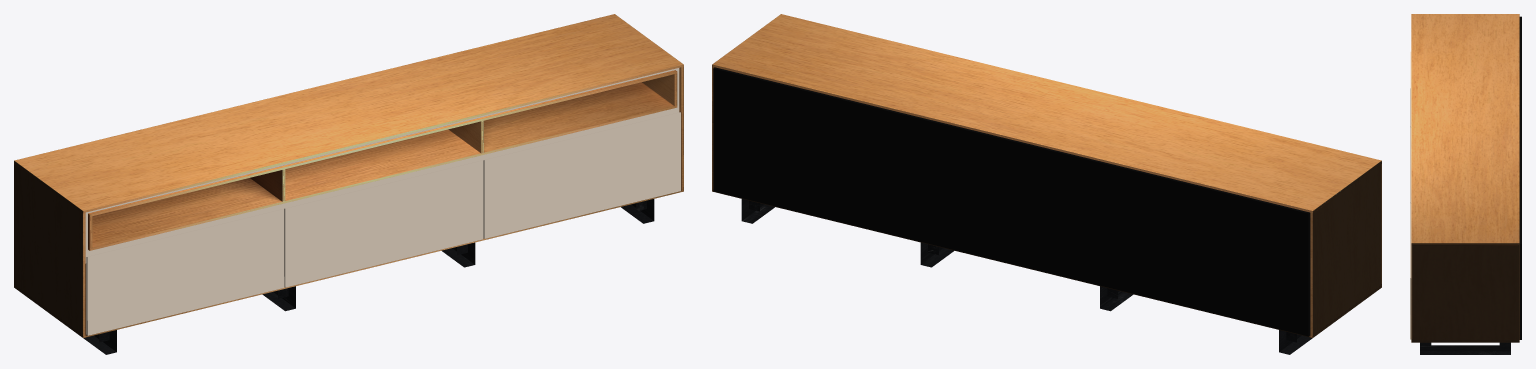
The model's file is bancadadj1.glb.
3 views of the same model, side by side, from view 1: azimuth 30°, elevation 25°; view 2: azimuth 150°, elevation 25°; view 3: azimuth 270°, elevation 25° (orthographic). The views are drawn at different scales.
Parts seen in each view (by area): view 1: Plane.013, Plane, Plane.007, Plane.003, Plane.008, Plane.006, Plane.001, Plane.011, Plane.009, Plane.012, Plane.017, Plane.018 (+2 smaller); view 2: Plane.014, Plane, Plane.003, Plane.001, Plane.017, Plane.018, Plane.016, Plane.015; view 3: Plane, Plane.002, Plane.018, Plane.014, Plane.013, Plane.001.
Boxes of the visible parts, x1,y1,x2,y2 form: Plane.013: (86, 112, 680, 335); Plane: (14, 14, 683, 212); Plane.007: (88, 82, 677, 250); Plane.003: (14, 163, 85, 335); Plane.008: (85, 68, 679, 263); Plane.006: (88, 70, 677, 216); Plane.001: (14, 189, 683, 337); Plane.011: (250, 169, 285, 201); Plane.009: (642, 73, 677, 105); Plane.012: (449, 121, 483, 153); Plane.017: (441, 242, 475, 267); Plane.018: (621, 199, 654, 223); Plane.014: (713, 67, 1310, 336); Plane: (712, 14, 1381, 212); Plane.003: (1310, 163, 1381, 335); Plane.001: (712, 189, 1381, 337); Plane.017: (920, 242, 954, 267); Plane.018: (741, 199, 774, 223); Plane.016: (1279, 330, 1312, 354); Plane.015: (1100, 286, 1133, 311); Plane: (1411, 14, 1519, 244); Plane.002: (1411, 245, 1519, 340); Plane.018: (1420, 342, 1510, 354); Plane.014: (1519, 16, 1521, 339); Plane.013: (1410, 51, 1411, 339); Plane.001: (1411, 341, 1519, 342).
Size of the model in its own units: 2.26 by 0.5562 by 0.4659.
Materials: 8 (7 with a texture image).
